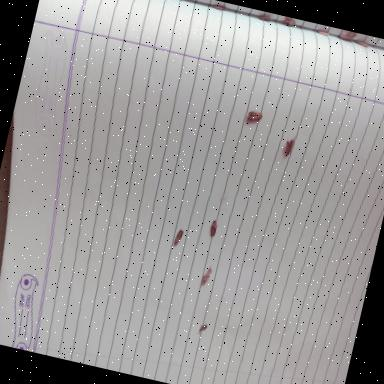pbw: (284, 132, 298, 156), (202, 262, 214, 286), (246, 110, 264, 124), (174, 228, 184, 248), (280, 16, 296, 28), (209, 219, 219, 238), (212, 4, 228, 12), (354, 40, 370, 48), (258, 16, 272, 23), (316, 30, 330, 36)
